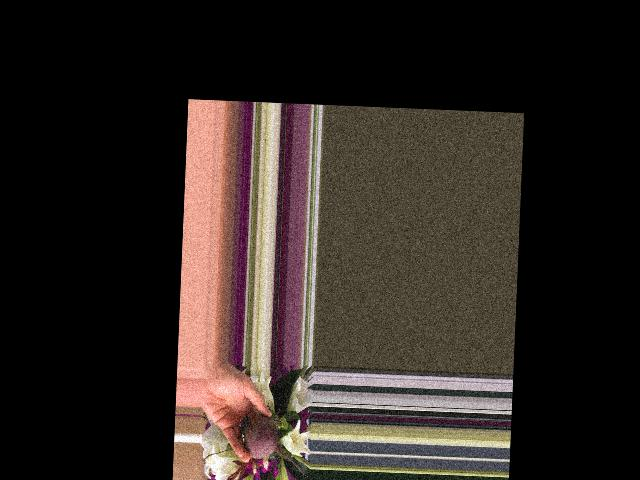beet: (237, 413, 309, 477)
